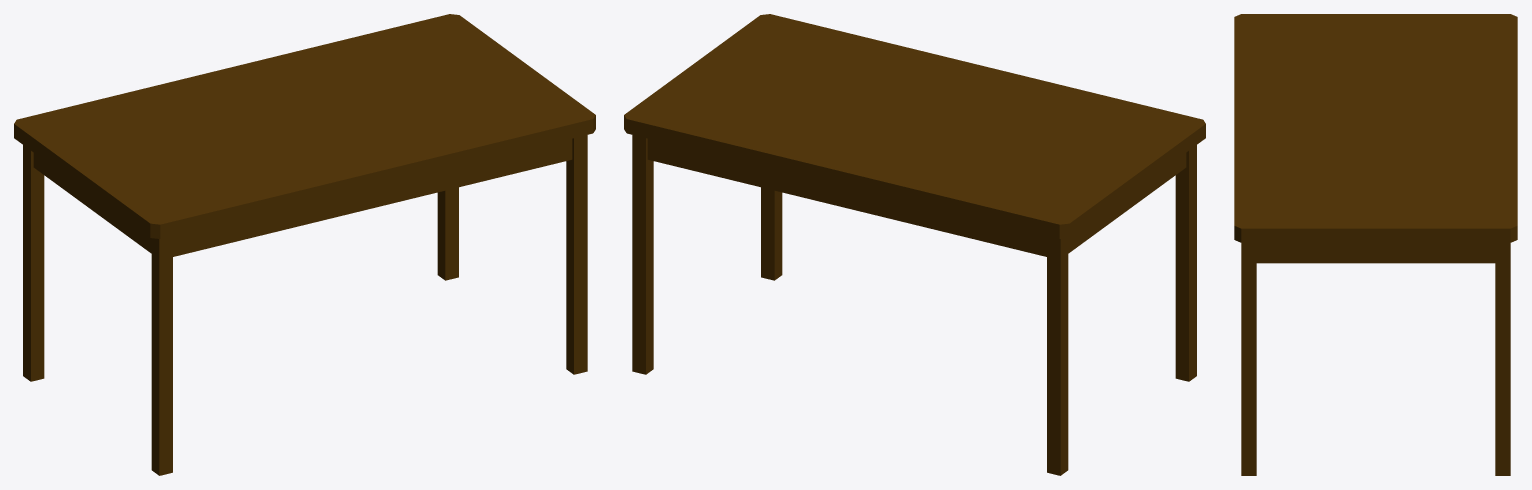
The model's file is TableModel.FBX.
The picture shows the model from 3 angles, left to right: view 1: azimuth 30°, elevation 25°; view 2: azimuth 150°, elevation 25°; view 3: azimuth 270°, elevation 25°; orthographic projection.
Parts seen in each view (by area): view 1: table; view 2: table; view 3: table.
Part boxes in pixels (x1,y1,x2,y2): table: [14, 14, 595, 475]; table: [624, 14, 1205, 475]; table: [1234, 14, 1517, 475].
Bounding box in the file's own units: 108 × 59.04 × 60.32.
